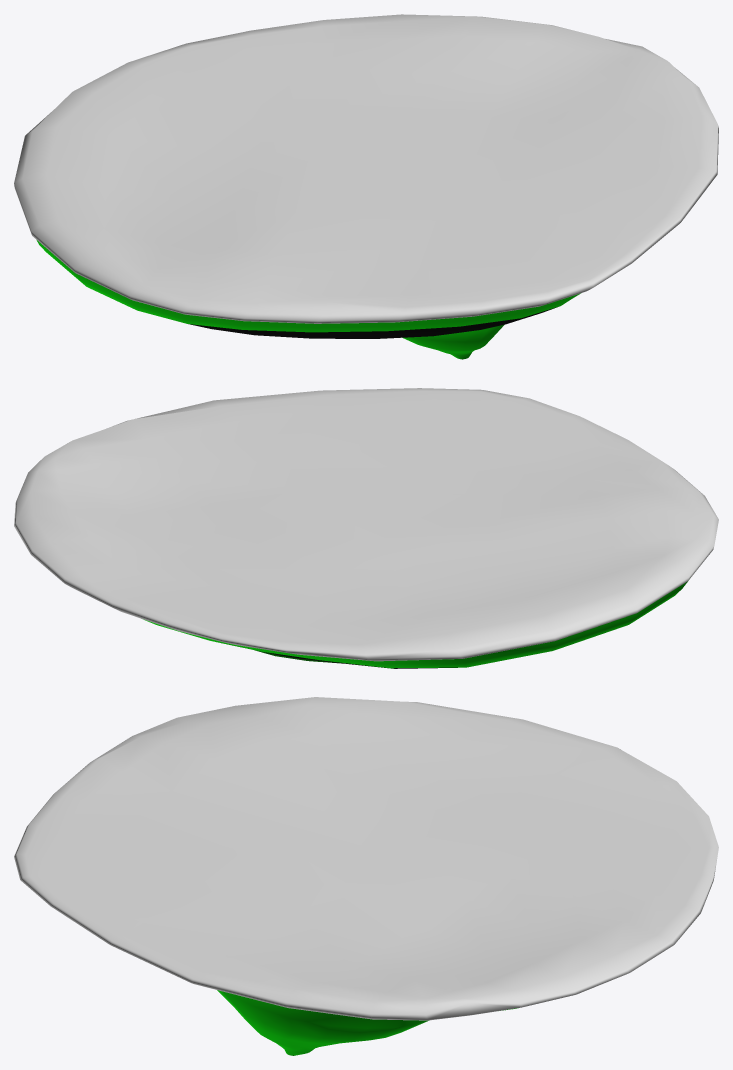
The model's file is Tutorial.fbx.
3 renders of one model, top to bottom at view 1: azimuth 30°, elevation 25°; view 2: azimuth 150°, elevation 25°; view 3: azimuth 270°, elevation 25°, orthographic. The views are drawn at different scales.
Parts seen in each view (by area): view 1: polySurface323, polySurface324; view 2: polySurface323, polySurface324; view 3: polySurface323, polySurface324.
Part boxes in pixels (box(x1,y1,x2,y2)): polySurface323: box(14, 14, 718, 323); polySurface324: box(36, 240, 580, 359); polySurface323: box(14, 388, 718, 661); polySurface324: box(143, 581, 687, 668); polySurface323: box(14, 697, 718, 1020); polySurface324: box(217, 990, 518, 1055).
Bounding box in the file's own units: 42.31 × 11.5 × 39.4.
